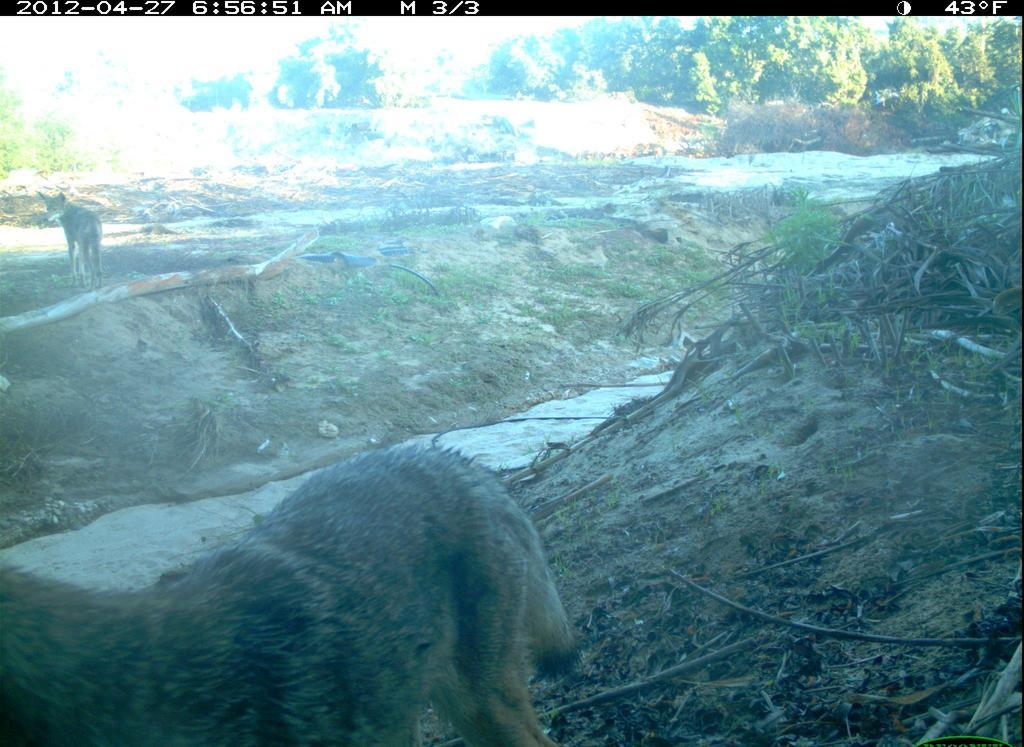coyote: (3, 430, 588, 747), (29, 186, 117, 299)
